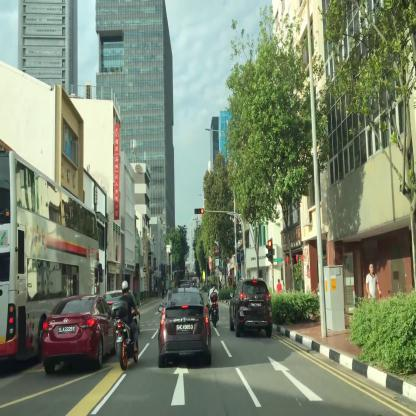red_traffic_light: (268, 240, 273, 261), (194, 208, 204, 213)
